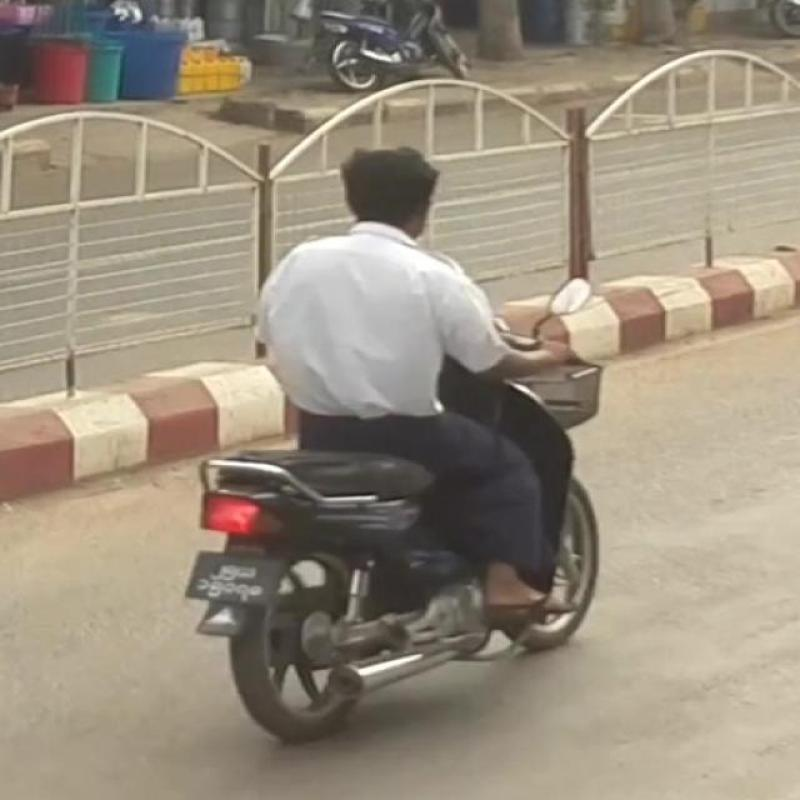nohelmet: (325, 133, 479, 276)
